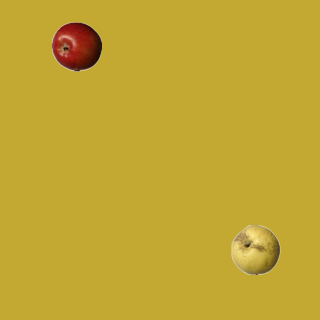Apple Braeburn: (51, 21, 101, 71)
Apple Golden 1: (230, 224, 280, 274)
